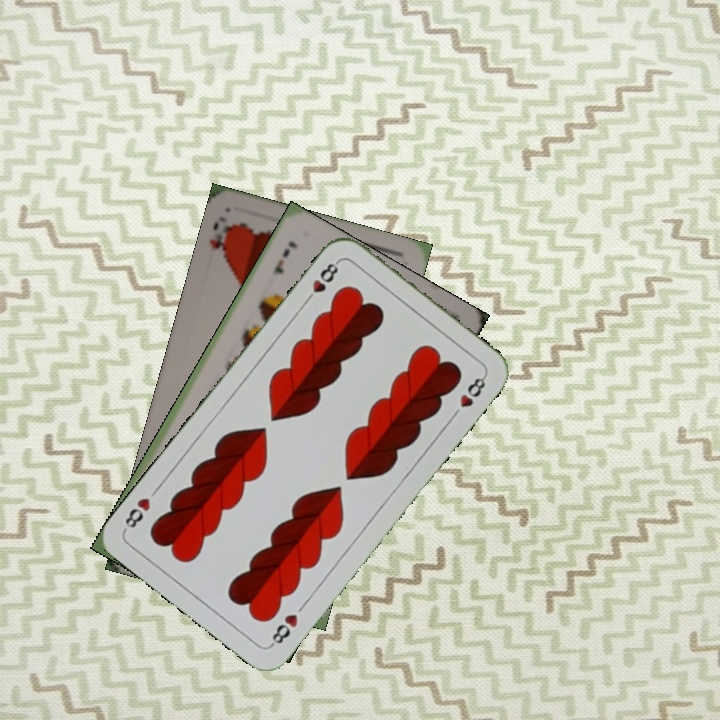E7: (269, 237, 301, 277)
H8: (300, 256, 342, 307), (266, 610, 301, 649)
HO: (204, 212, 236, 260)
